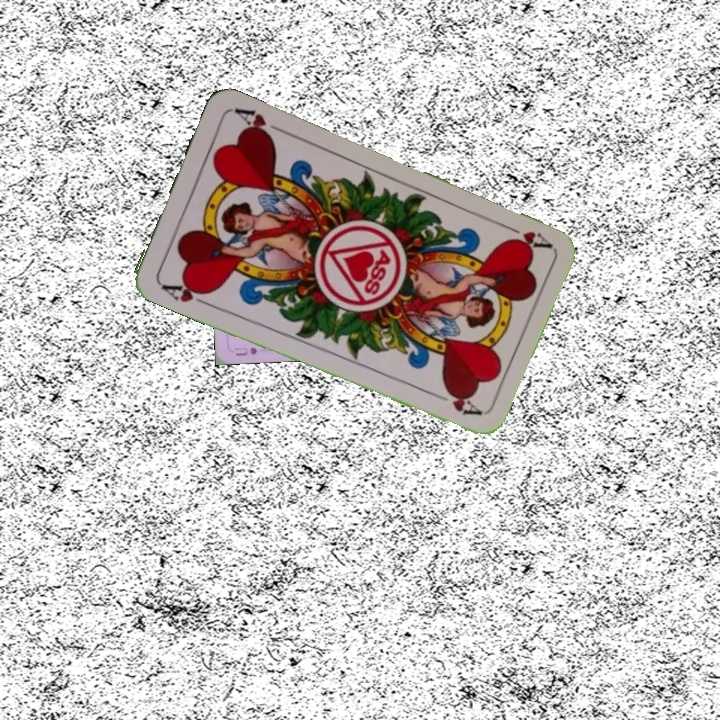HA: (496, 219, 553, 254), (155, 277, 214, 308)
SU: (231, 343, 260, 358)
